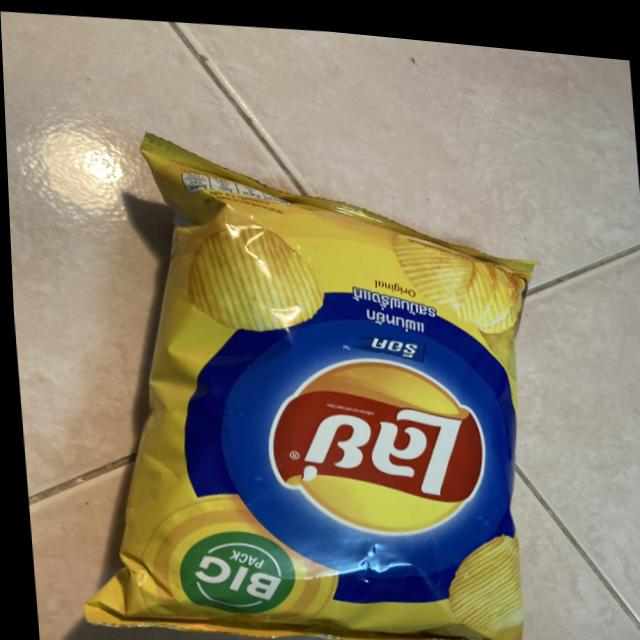LayYellow: (110, 137, 550, 640)
